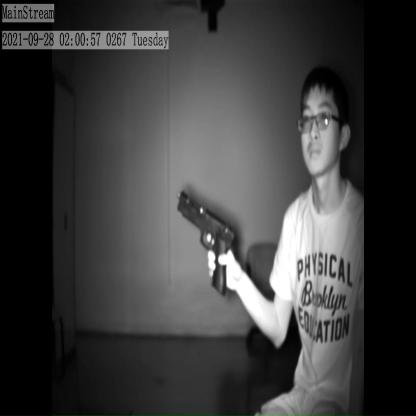weapon: (175, 184, 237, 301)
